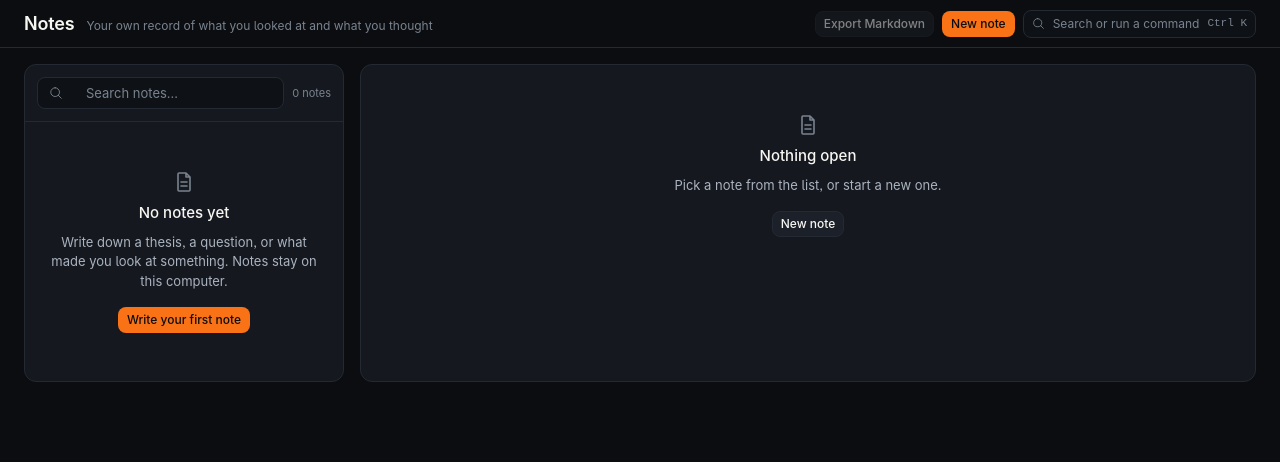
Test: notes workspace › warns while there are unsaved changes
Check: the text "No notes yet" is shown, box x1=139 y1=202 x2=229 y2=224
Step 1. Click the button "Write your first note" → x=184, y=320, box x1=118 y1=307 x2=250 y2=333
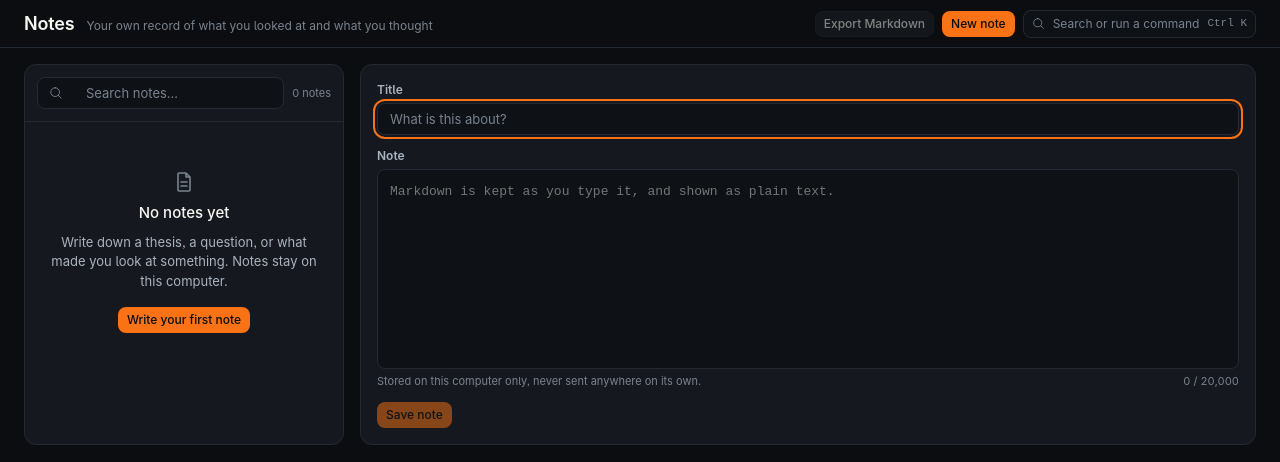
Step 2. Type "Half written" into the field labelled "Title" → x=808, y=119, box x1=377 y1=103 x2=1239 y2=135
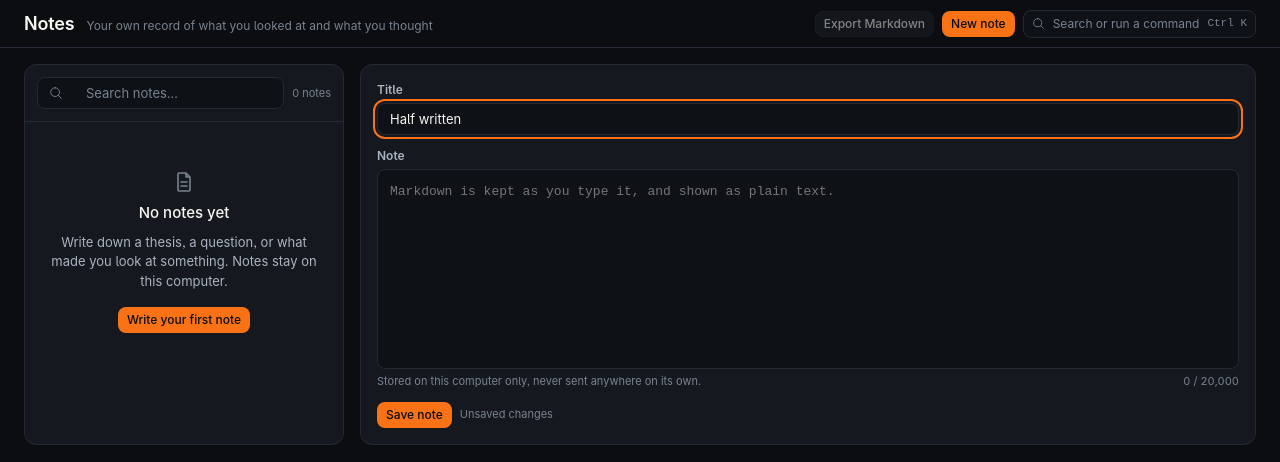
Check: the message reads "Unsaved changes", box x1=460 y1=407 x2=553 y2=421
